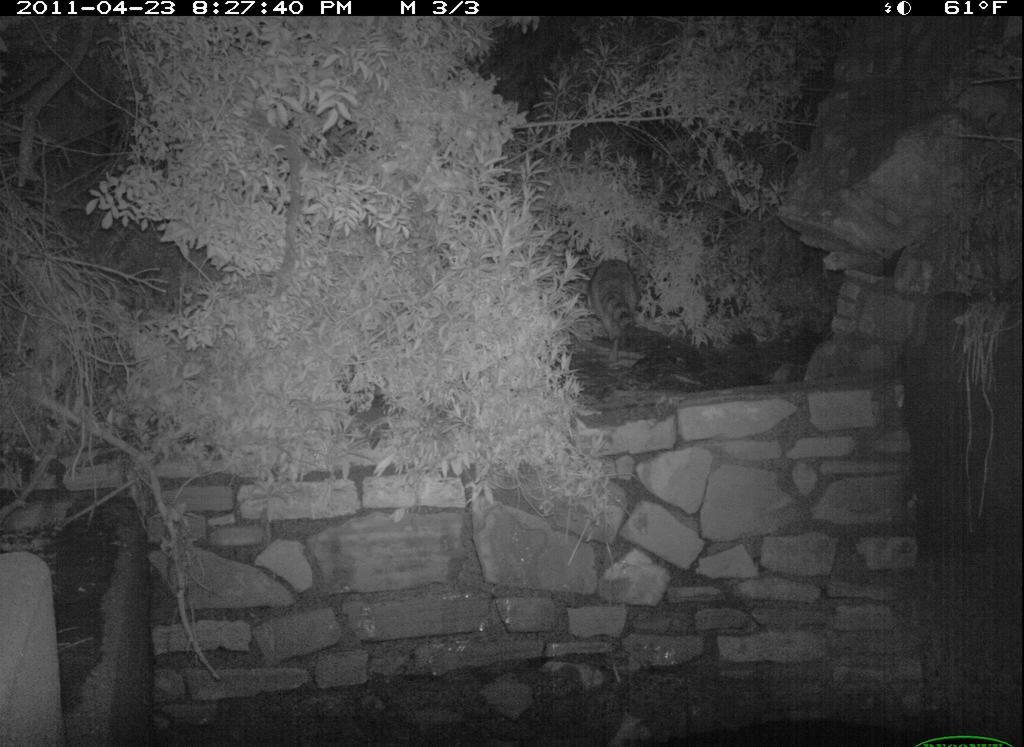raccoon: (580, 248, 661, 353)
